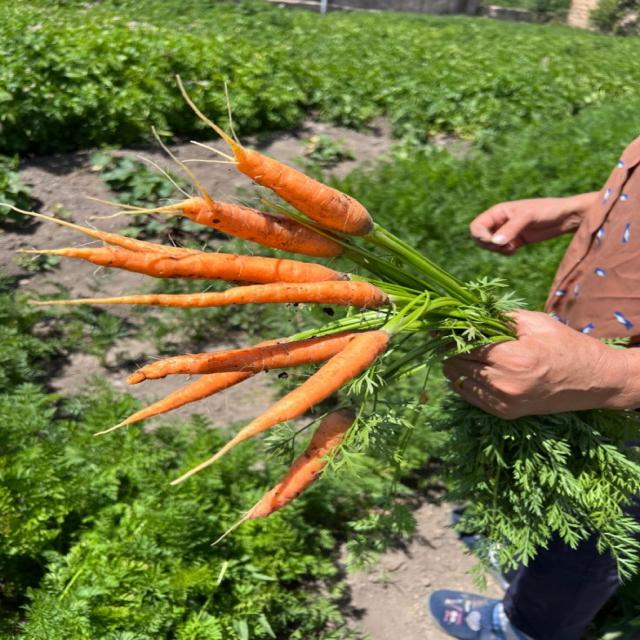carrot: (174, 331, 389, 483), (179, 79, 373, 235), (214, 410, 355, 544), (127, 331, 358, 384), (20, 248, 348, 283), (154, 198, 343, 257), (95, 372, 253, 435), (34, 281, 389, 308), (12, 207, 198, 256)
